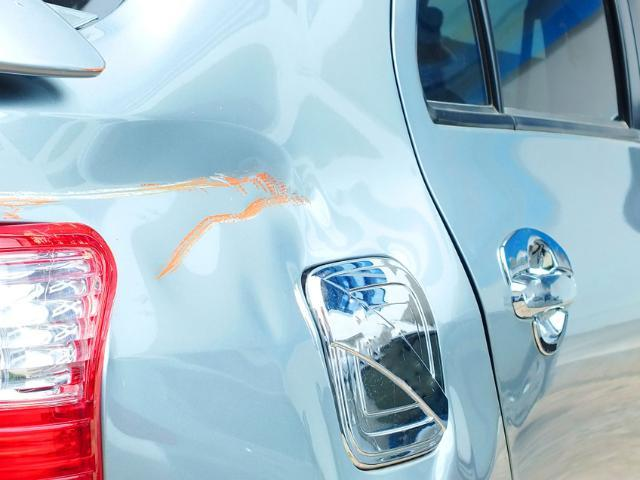Fender: (0, 140, 313, 281)
